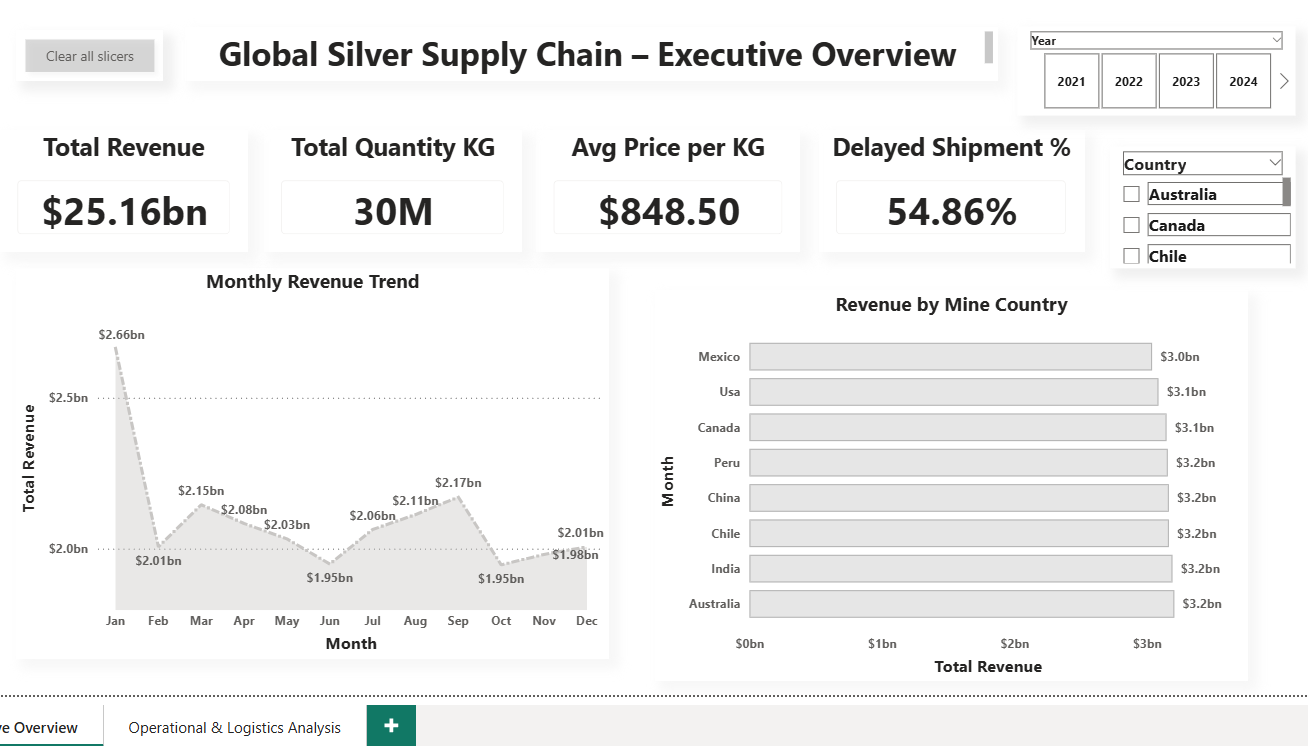

Layout of this report page (visuals, bound fields, positions):
{"tool":"powerbi","page":{"name":"Executive Overview","canvas":[1280,720],"ordinal":0},"visuals":[{"type":"cardVisual","title":"Total Revenue","fields":{"Data":["Measure.Total Revenue"]},"box":[0,167.3,242.1,119.2],"z":0,"group":"g1"},{"type":"textbox","box":[181.5,65.9,795.6,53.4],"z":0},{"type":"cardVisual","title":"Avg Price per KG","fields":{"Data":["Measure.Avg Price per KG"]},"box":[525,167.3,258.1,119.2],"z":1000,"group":"g1"},{"type":"lineChart","title":"Monthly Revenue Trend","fields":{"Y":["Measure.Total Revenue"],"Category":["DateTable.Year Hierarchy.Year","DateTable.Year Hierarchy.Month Name"]},"box":[16,302.6,580.2,382.7],"z":1000},{"type":"cardVisual","title":"Total Quantity KG","fields":{"Data":["Measure.Total Quantity KG"]},"box":[258.1,167.3,252.7,119.2],"z":2000,"group":"g1"},{"type":"barChart","title":"Revenue by Mine Country","fields":{"Category":["silver_transactions.mine_country"],"Y":["Measure.Total Revenue"]},"box":[640.7,323.9,580.2,382.7],"z":2000},{"type":"cardVisual","title":"Delayed Shipment %","fields":{"Data":["Measure.Delayed Shipment %"]},"box":[800.9,167.3,259.8,119.2],"z":3000,"group":"g1"},{"type":"slicer","title":"Year","fields":{"Values":["DateTable.Year"]},"box":[994.9,65.9,272.3,87.2],"z":3000},{"type":"slicer","title":"Year","fields":{"Values":["silver_transactions.mine_country"]},"box":[1085.7,183.3,181.5,119.2],"z":4000},{"type":"group","id":"g1","title":"KPIs","box":[0,167.3,1060.8,119.2],"z":5000},{"type":"actionButton","box":[16,69.4,144.2,49.8],"z":6000}]}

Visuals, with their boxes on the page's 1280x720 design canvas (x1, y1, x2, y2). These are canvas units, not pixel positions in the 1308x746 screenshot, which may show the page scaled, cropped or inside an application window:
"Total Revenue" cardVisual: <box>0,167,242,286</box>
textbox: <box>182,66,977,119</box>
"Avg Price per KG" cardVisual: <box>525,167,783,286</box>
"Monthly Revenue Trend" lineChart: <box>16,303,596,685</box>
"Total Quantity KG" cardVisual: <box>258,167,511,286</box>
"Revenue by Mine Country" barChart: <box>641,324,1221,707</box>
"Delayed Shipment %" cardVisual: <box>801,167,1061,286</box>
"Year" slicer: <box>995,66,1267,153</box>
"Year" slicer: <box>1086,183,1267,302</box>
"KPIs" group: <box>0,167,1061,286</box>
actionButton: <box>16,69,160,119</box>
